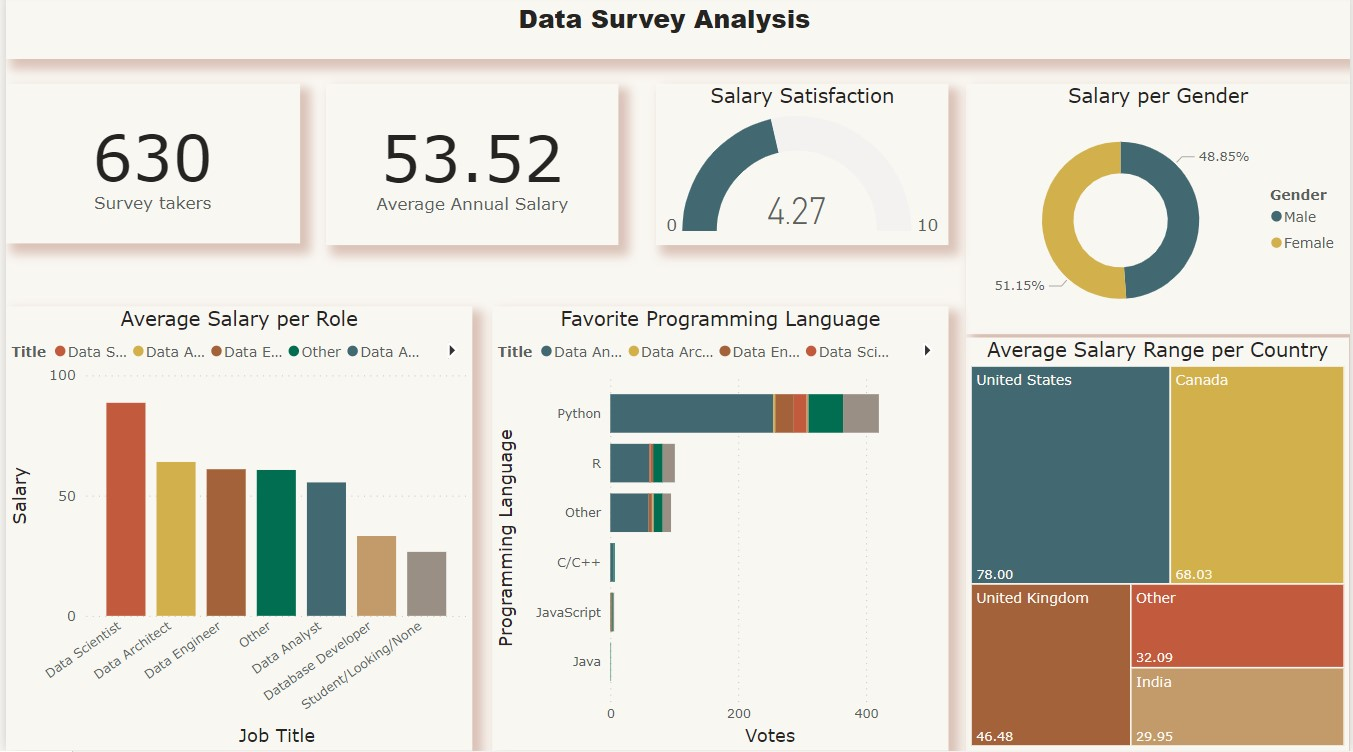

What the dashboard file says about the page in this screenshot:
{"tool":"powerbi","page":{"name":"Page 1","canvas":[1280,720],"ordinal":0},"visuals":[{"type":"card","fields":{"Values":["Count(Data Professional Survey.Unique ID)"]},"box":[0,84.5,279.7,152.3],"z":0},{"type":"card","fields":{"Values":["Avg(Data Professional Survey.Average_Salary)"]},"box":[304.7,84.5,278.5,153.5],"z":1000},{"type":"columnChart","title":"Average Salary per Role","fields":{"Category":["Data Professional Survey.Q1 - Which Title Best Fits your Current Role?.1"],"Y":["Avg(Data Professional Survey.Average_Salary)"],"Series":["Data Professional Survey.Q1 - Which Title Best Fits your Current Role?.1"]},"box":[0,296.7,443.9,423.2],"z":2000},{"type":"donutChart","title":"Salary per Gender","fields":{"Category":["Data Professional Survey.Q9 - Male/Female?"],"Y":["Avg(Data Professional Survey.Average_Salary)"]},"box":[914,84.5,365.4,238],"z":3000},{"type":"treemap","title":"Average Salary Range per Country","fields":{"Group":["Data Professional Survey.Q11 - Which Country do you live in?.1"],"Values":["Avg(Data Professional Survey.Average_Salary)"]},"box":[914.5,325.9,364.8,394],"z":4000},{"type":"barChart","title":"Favorite Programming Language","fields":{"Category":["Data Professional Survey.Q5 - Favorite Programming Language.1"],"Y":["CountNonNull(Data Professional Survey.Q5 - Favorite Programming Language.1)"],"Series":["Data Professional Survey.Q1 - Which Title Best Fits your Current Role?.1"]},"box":[463.3,296.7,434.1,423.2],"z":5000},{"type":"gauge","title":"Salary Satisfaction","fields":{"Y":["Avg(Data Professional Survey.Q6 - How Happy are you in your Current Position with the following? (Salary))"],"MinValue":["Min(Data Professional Survey.Q6 - How Happy are you in your Current Position with the following? (Salary))"],"MaxValue":["Max(Data Professional Survey.Q6 - How Happy are you in your Current Position with the following? (Salary))"]},"box":[618.8,84.5,278.5,153.5],"z":5001},{"type":"textbox","box":[0,0,1279.3,60.7],"z":5002}]}

Visuals, with their boxes in screenshot pixels (x1, y1, x2, y2), scaled from the page's 1280x720 canvas onto the 1353x752 screenshot:
card - Count(Data Professional Survey.Unique ID): pyautogui.locateOnScreen(0, 88, 296, 247)
card - Avg(Data Professional Survey.Average_Salary): pyautogui.locateOnScreen(322, 88, 616, 249)
"Average Salary per Role" columnChart: pyautogui.locateOnScreen(0, 310, 469, 751)
"Salary per Gender" donutChart: pyautogui.locateOnScreen(966, 88, 1352, 337)
"Average Salary Range per Country" treemap: pyautogui.locateOnScreen(967, 340, 1352, 751)
"Favorite Programming Language" barChart: pyautogui.locateOnScreen(490, 310, 949, 751)
"Salary Satisfaction" gauge: pyautogui.locateOnScreen(654, 88, 948, 249)
textbox: pyautogui.locateOnScreen(0, 0, 1352, 63)
